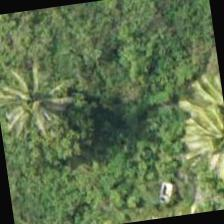Kelapa_Sawit: (0, 52, 83, 153), (169, 104, 223, 202)
